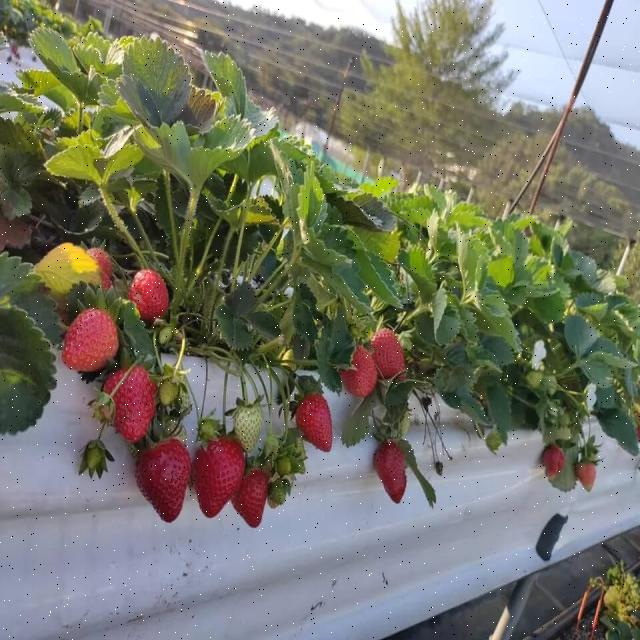Ripe Strawberry: (135, 440, 189, 525), (195, 435, 244, 518), (103, 369, 154, 441), (63, 310, 120, 370), (295, 394, 334, 452), (372, 444, 409, 502), (130, 268, 170, 320), (371, 330, 406, 384), (237, 469, 268, 529), (342, 347, 377, 397), (83, 246, 111, 291), (545, 444, 561, 476)
